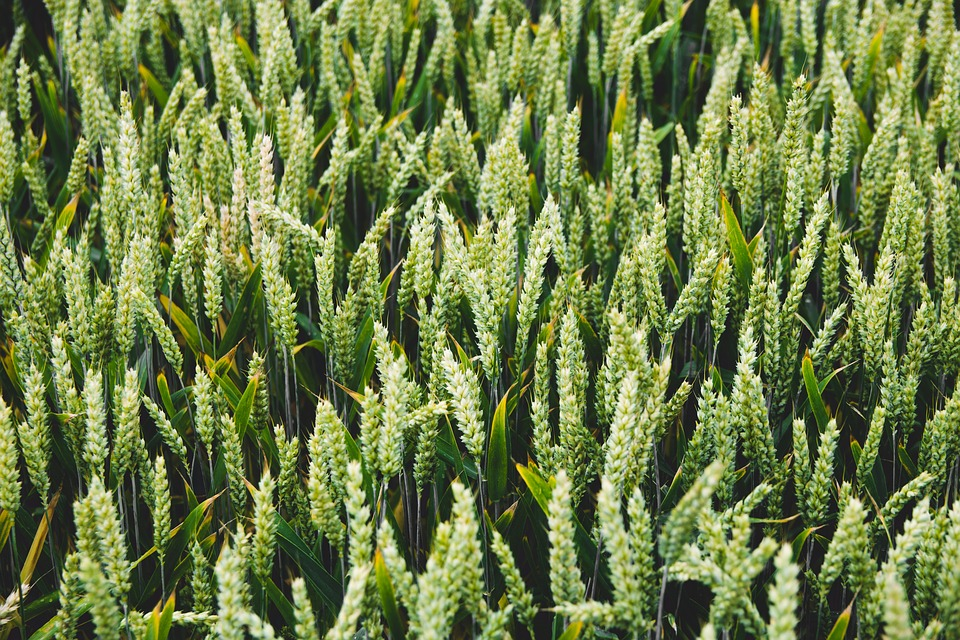Wheat: (57, 69, 889, 567)
